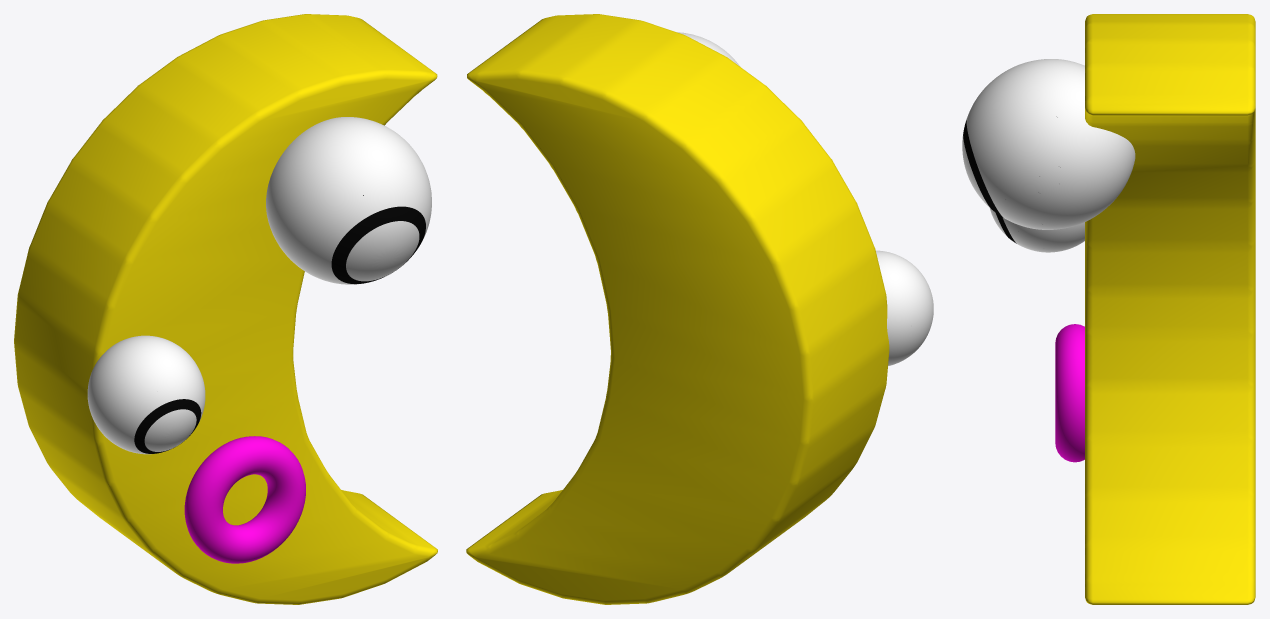
Rendered from LuaGloink.glb.
3 views of the same model, side by side, from view 1: azimuth 30°, elevation 25°; view 2: azimuth 150°, elevation 25°; view 3: azimuth 270°, elevation 25° (orthographic). The views are drawn at different scales.
Parts seen in each view (by area): view 1: Object_23, Object_22, Object_25, Object_24; view 2: Object_23, Object_25; view 3: Object_23, Object_22, Object_24, Object_25.
Boxes of the visible parts, x1,y1,x2,y2 form: Object_23: [14, 14, 437, 604]; Object_22: [266, 117, 431, 284]; Object_25: [87, 335, 205, 454]; Object_24: [184, 436, 305, 563]; Object_23: [466, 14, 889, 604]; Object_25: [876, 250, 933, 365]; Object_23: [1085, 14, 1255, 604]; Object_22: [962, 59, 1135, 229]; Object_24: [1055, 324, 1084, 462]; Object_25: [990, 208, 1084, 252].
Size of the model in its own units: 0.2144 by 0.2941 by 0.1457.
Materials: 4 (3 with a texture image).
